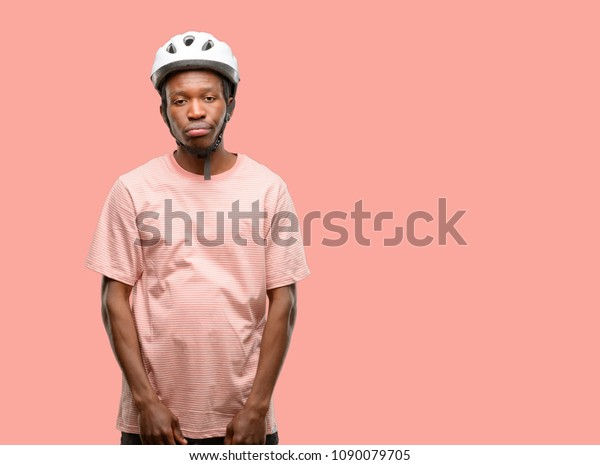helmet: (151, 31, 240, 152)
